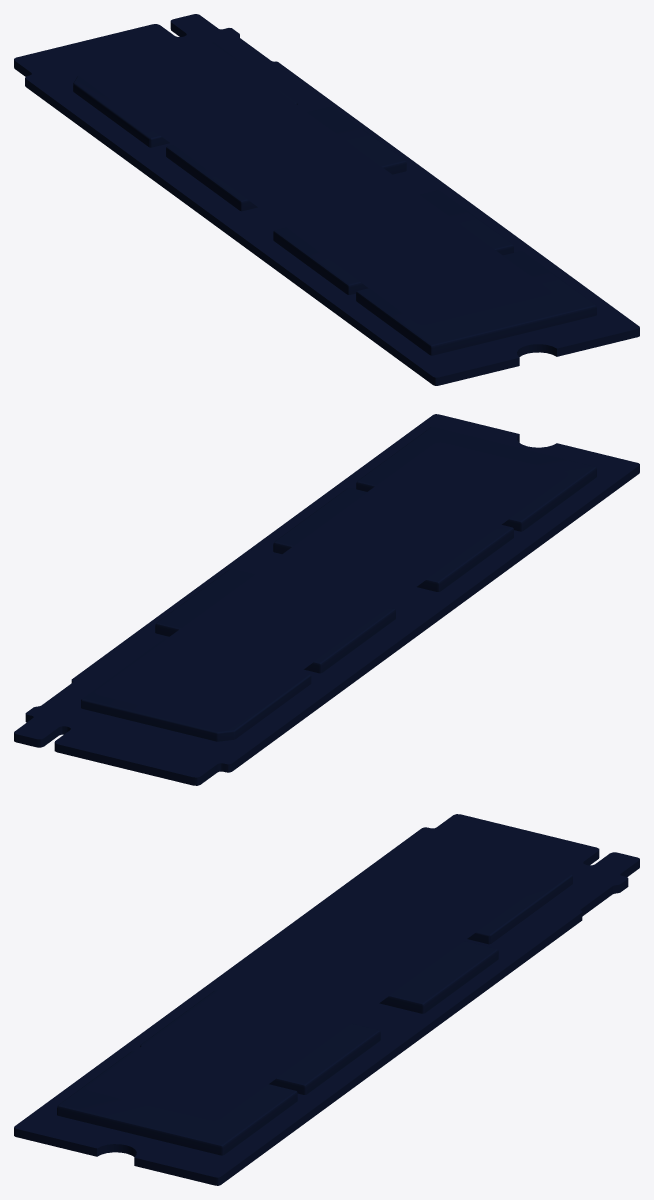
Rendered from ssd-kingston-nv3-1tb.glb.
3 renders of one model, top to bottom at view 1: azimuth 30°, elevation 25°; view 2: azimuth 150°, elevation 25°; view 3: azimuth 330°, elevation 25°, orthographic.
Parts seen in each view (by area): view 1: body; view 2: body; view 3: body.
Boxes of the visible parts, x1=… form: body: x1=14, y1=14, x2=639, y2=385; body: x1=14, y1=414, x2=639, y2=785; body: x1=14, y1=814, x2=639, y2=1185.
Bounding box in the file's own units: 0.022 × 0.0023 × 0.08.
